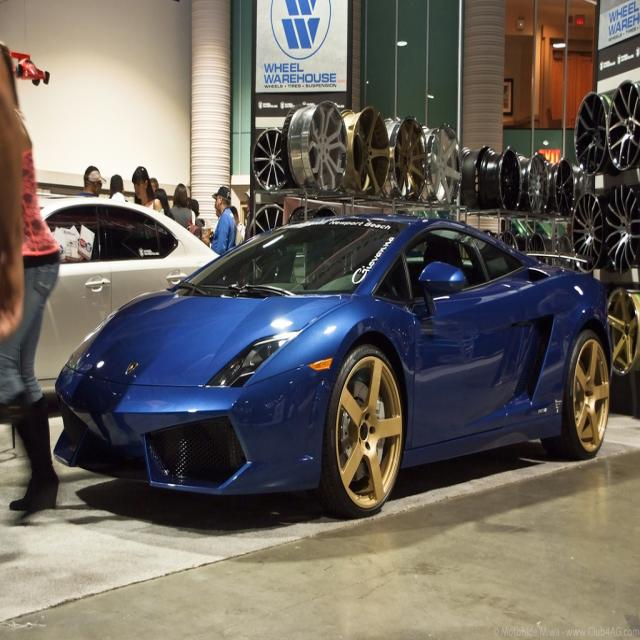car: (50, 215, 612, 514)
